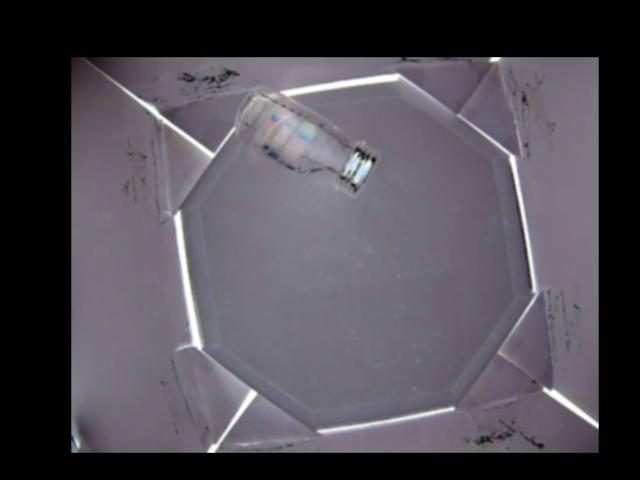Bottle: (233, 86, 382, 194)
